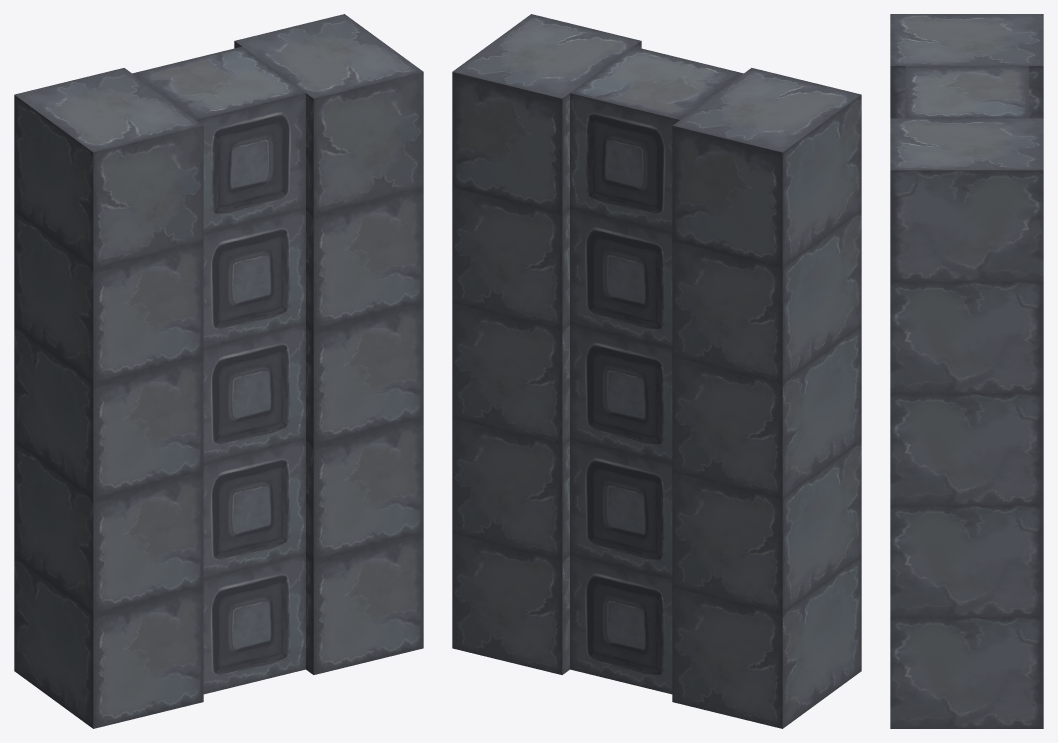
File: Castle Deco Pilar Wide 5.fbx
The picture shows the model from 3 angles, left to right: view 1: azimuth 30°, elevation 25°; view 2: azimuth 150°, elevation 25°; view 3: azimuth 270°, elevation 25°; orthographic projection. The views are drawn at different scales.
Visible parts, largest first — view 1: Castle Deco Pilar Wide 5; view 2: Castle Deco Pilar Wide 5; view 3: Castle Deco Pilar Wide 5.
Boxes of the visible parts, left/top/right/bottom form: Castle Deco Pilar Wide 5: left=14, top=14, right=423, bottom=728; Castle Deco Pilar Wide 5: left=452, top=14, right=861, bottom=728; Castle Deco Pilar Wide 5: left=890, top=14, right=1043, bottom=728.
Bounding box in the file's own units: 2.25 × 3.75 × 0.9335.
